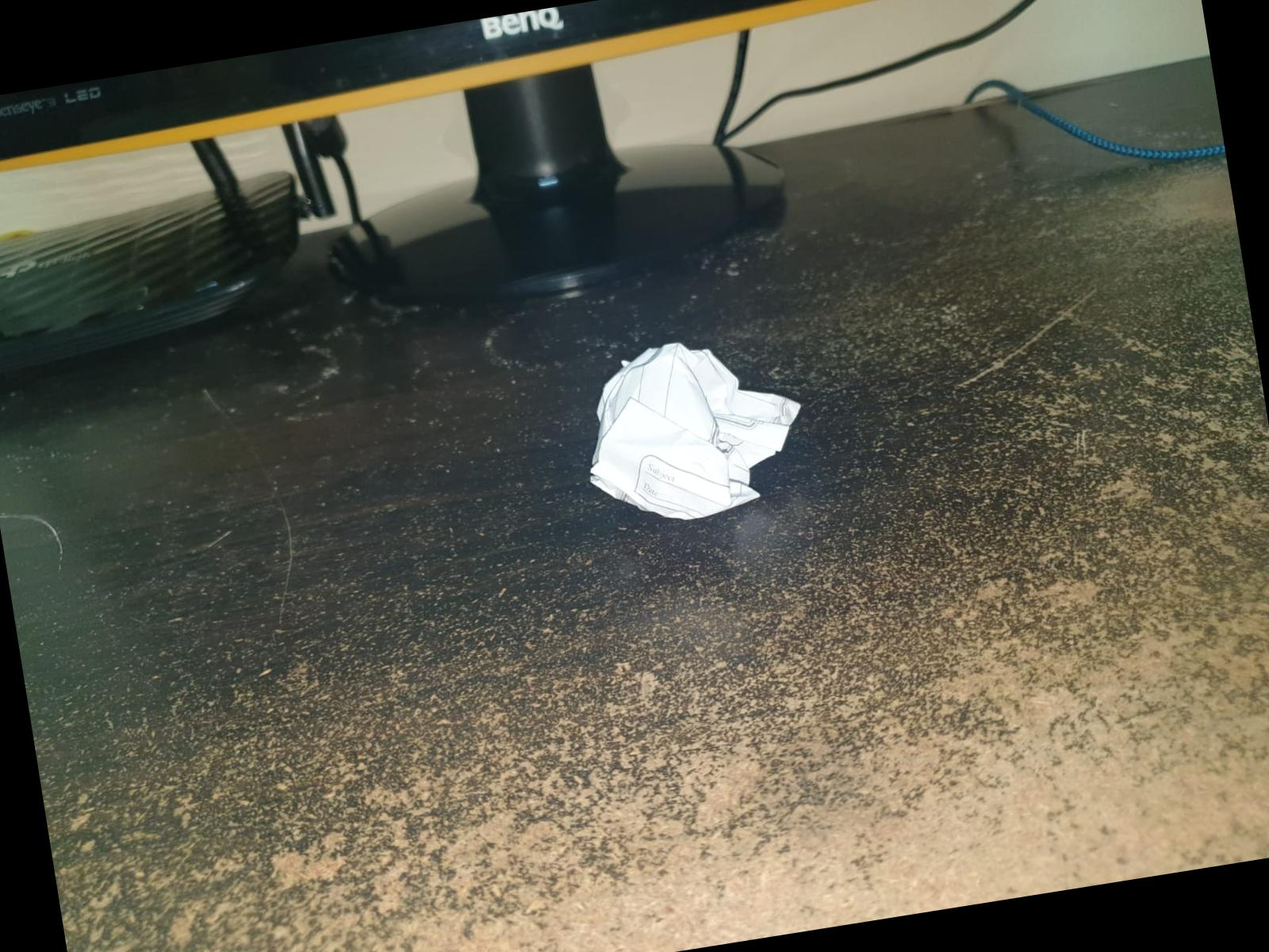Kertas: (594, 347, 793, 521)
